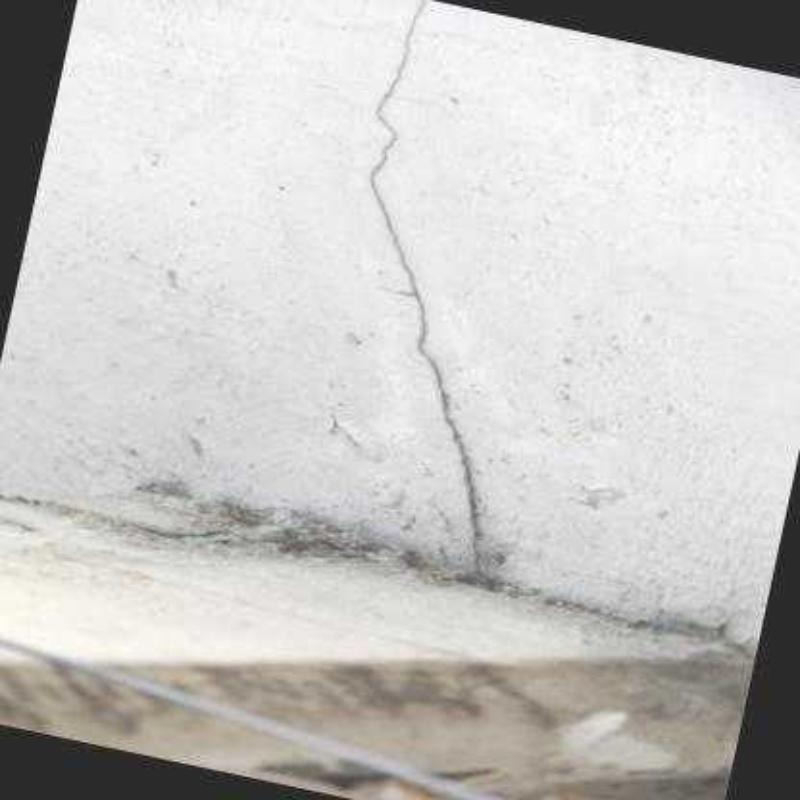crack: (367, 0, 484, 575)
